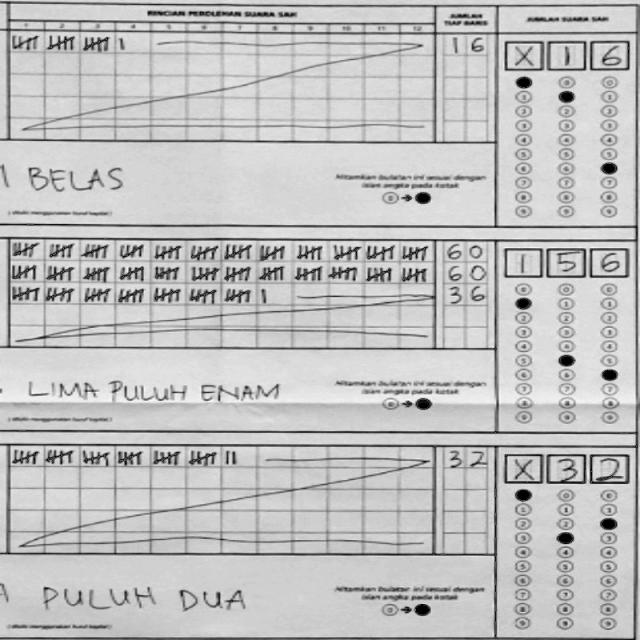Suara: (499, 31, 631, 72), (499, 449, 631, 486), (500, 244, 631, 280)
